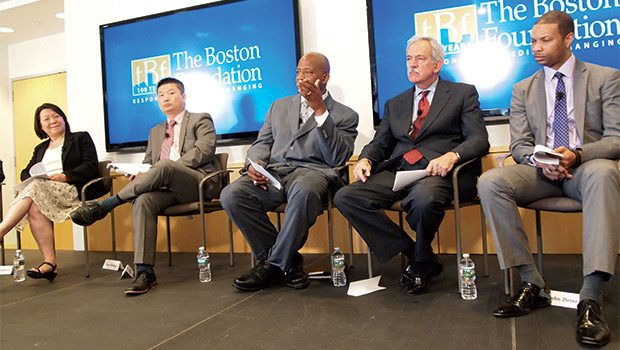Person: (497, 17, 612, 329), (367, 38, 470, 299), (242, 62, 342, 289), (6, 99, 91, 274), (133, 77, 209, 259)
